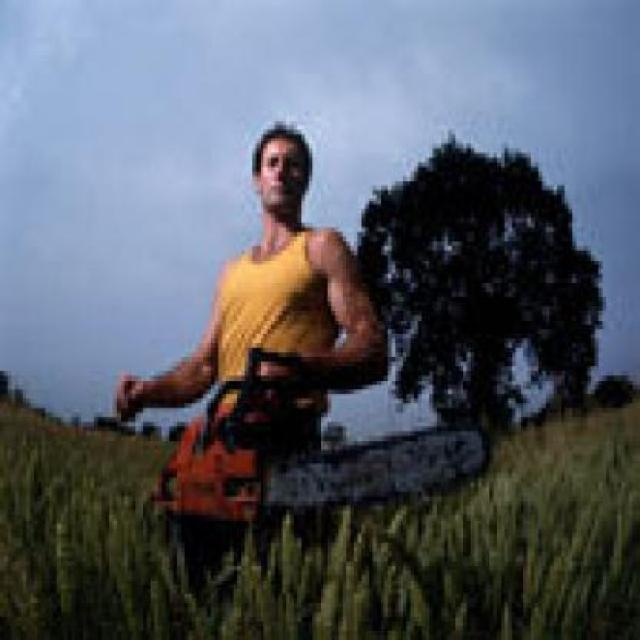Chainsaw: (145, 346, 492, 525)
